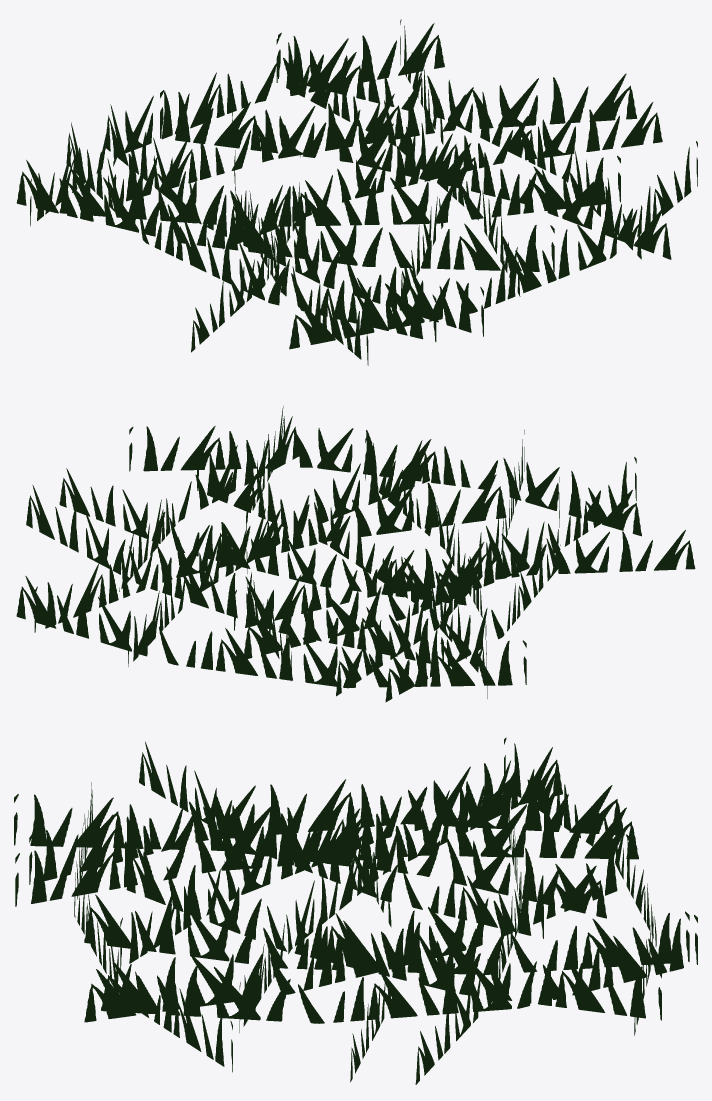
File: Grass_Small.FBX
The picture shows the model from 3 angles, top to bottom: view 1: azimuth 30°, elevation 25°; view 2: azimuth 150°, elevation 25°; view 3: azimuth 270°, elevation 25°; orthographic projection. The views are drawn at different scales.
Parts seen in each view (by area): view 1: Grass_SmallLOD0; view 2: Grass_SmallLOD0; view 3: Grass_SmallLOD0.
Boxes of the visible parts, x1,y1,x2,y2 form: Grass_SmallLOD0: [16, 19, 697, 365]; Grass_SmallLOD0: [16, 406, 695, 702]; Grass_SmallLOD0: [14, 737, 697, 1084].
Size of what is drawn, in the model's own units: 67.76 by 5.9 by 64.19.
